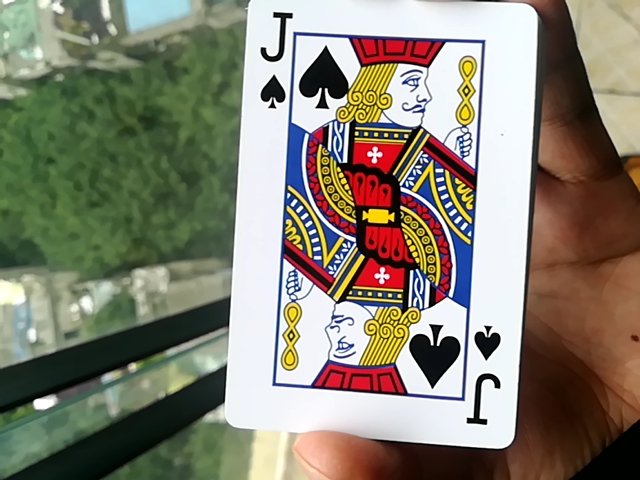ht j: (229, 14, 548, 448)
